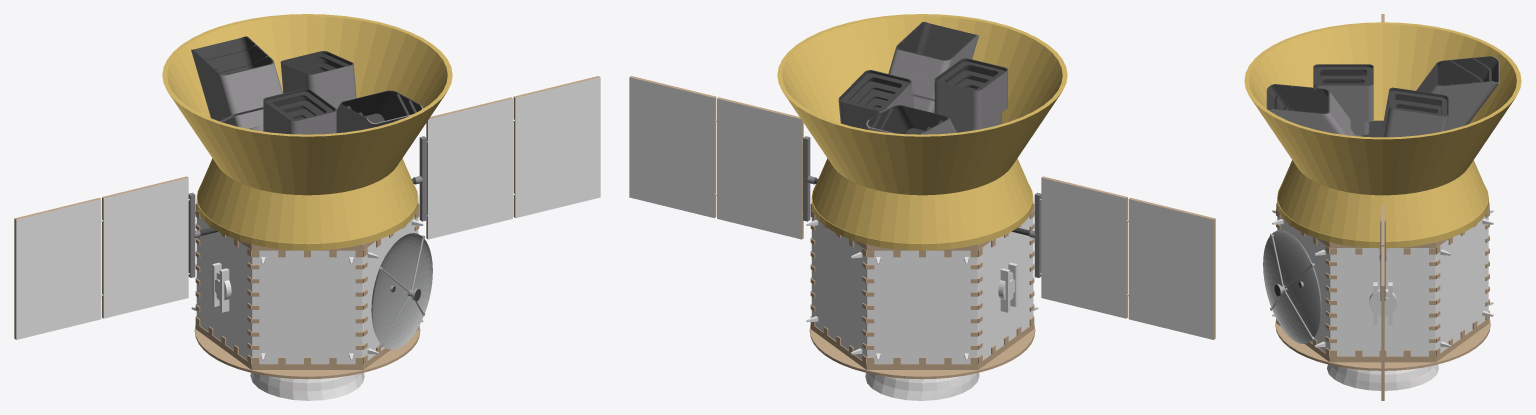
The model's file is tess.glb.
3 renders of one model, left to right at view 1: azimuth 30°, elevation 25°; view 2: azimuth 150°, elevation 25°; view 3: azimuth 270°, elevation 25°, orthographic. The views are drawn at different scales.
Visible parts, largest first — view 1: Layer_0; view 2: Layer_0; view 3: Layer_0.
Part boxes in pixels (bbox=[...]): Layer_0: bbox=[14, 14, 600, 400]; Layer_0: bbox=[629, 14, 1215, 400]; Layer_0: bbox=[1244, 14, 1521, 400].
Size of the model in its own units: 37.1 by 18.27 by 15.97.
Materials: 3 (3 with a texture image).
